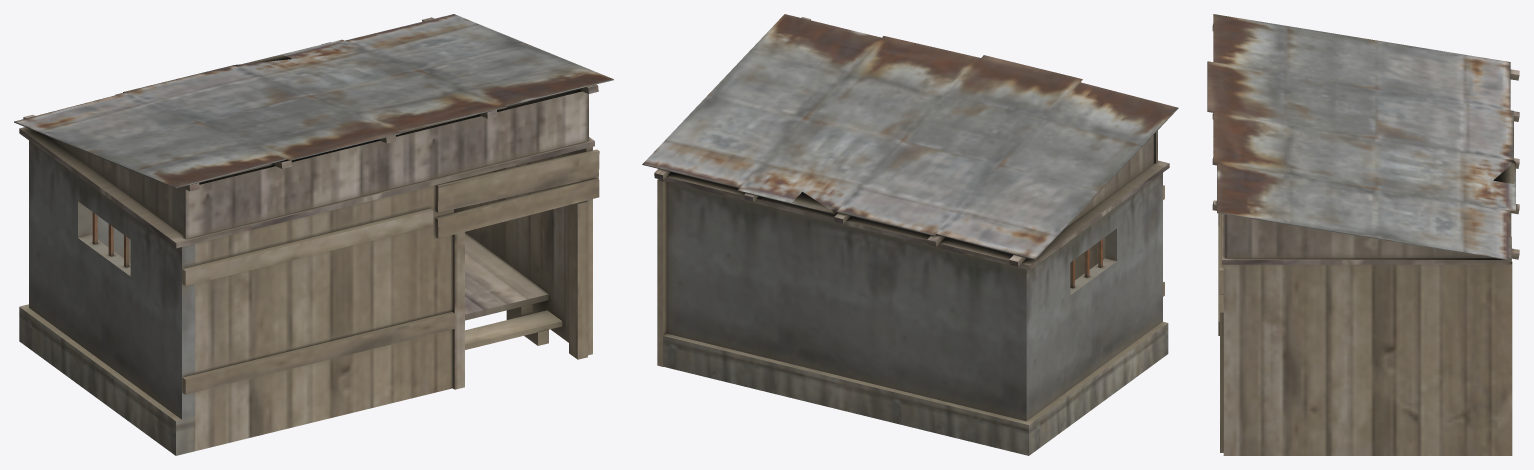
File: store.glb
3 renders of one model, left to right at view 1: azimuth 30°, elevation 25°; view 2: azimuth 150°, elevation 25°; view 3: azimuth 270°, elevation 25°, orthographic. The views are drawn at different scales.
Visible parts, largest first — view 1: building_1; view 2: building_1; view 3: building_1.
Part boxes in pixels (<box>): building_1: <box>14,14,613,455</box>; building_1: <box>642,14,1178,455</box>; building_1: <box>1207,14,1519,455</box>.
Size of the model in its own units: 4.33 by 2.6 by 2.89.
Materials: 1 (1 with a texture image).
